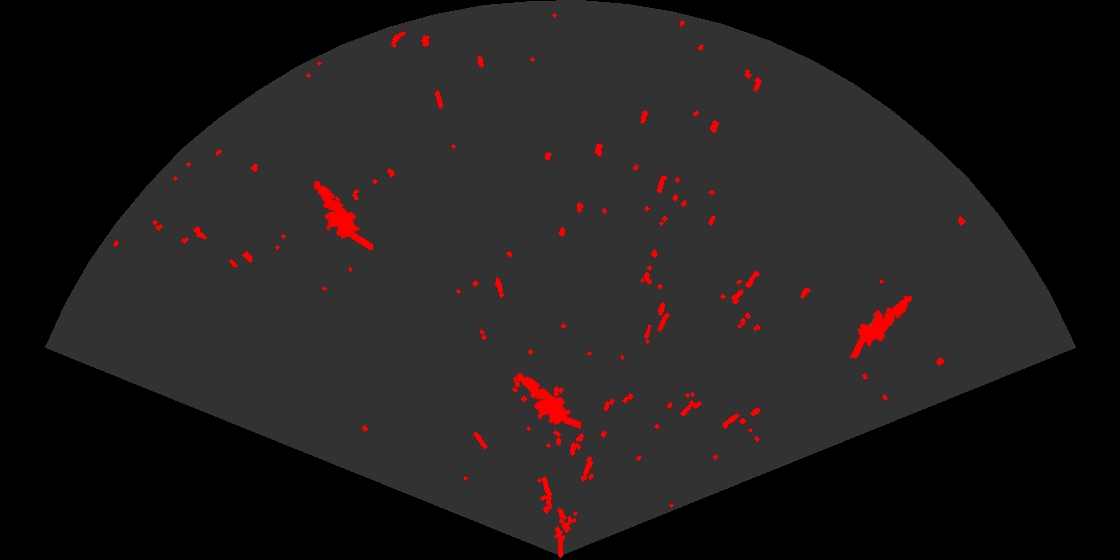frogman: (312, 179, 373, 250), (848, 294, 914, 358), (515, 371, 581, 431)
